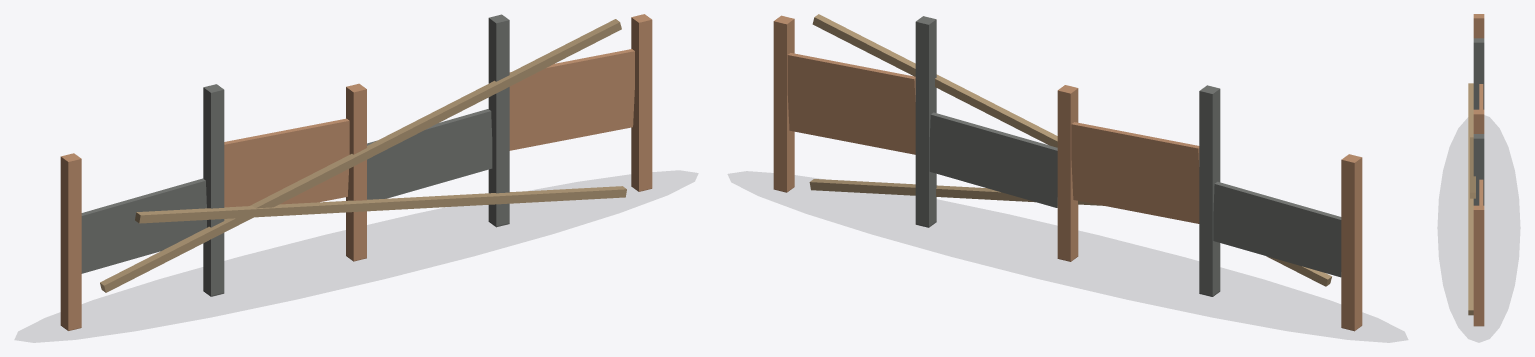
The model's file is scrap_wall_segment.glb.
3 views of the same model, side by side, from view 1: azimuth 30°, elevation 25°; view 2: azimuth 150°, elevation 25°; view 3: azimuth 270°, elevation 25° (orthographic). The views are drawn at different scales.
Parts seen in each view (by area): view 1: baked_contact_shadow, corrugated_plate_3, corrugated_plate_1, corrugated_plate_2, diagonal_brace_a, corrugated_plate_0, diagonal_brace_b, wall_post_1, wall_post_3, wall_post_0, wall_post_4, wall_post_2; view 2: baked_contact_shadow, corrugated_plate_1, corrugated_plate_3, corrugated_plate_0, corrugated_plate_2, wall_post_1, wall_post_3, wall_post_0, diagonal_brace_a, wall_post_4, wall_post_2, diagonal_brace_b; view 3: baked_contact_shadow, wall_post_4, diagonal_brace_b, wall_post_1, wall_post_3, wall_post_0, wall_post_2, diagonal_brace_a, corrugated_plate_3, corrugated_plate_1.
Part boxes in pixels (x1,y1,x2,y2): baked_contact_shadow: [15, 171, 697, 342]; corrugated_plate_3: [509, 49, 634, 150]; corrugated_plate_1: [224, 118, 349, 207]; corrugated_plate_2: [367, 109, 492, 199]; diagonal_brace_a: [100, 19, 621, 292]; corrugated_plate_0: [81, 178, 206, 273]; diagonal_brace_b: [135, 186, 626, 223]; wall_post_1: [203, 84, 224, 296]; wall_post_3: [488, 14, 509, 227]; wall_post_0: [60, 153, 81, 330]; wall_post_4: [631, 14, 652, 191]; wall_post_2: [346, 83, 366, 261]; baked_contact_shadow: [728, 171, 1407, 342]; corrugated_plate_1: [1071, 122, 1199, 223]; corrugated_plate_3: [787, 53, 915, 154]; corrugated_plate_0: [1213, 181, 1341, 277]; corrugated_plate_2: [929, 112, 1057, 207]; wall_post_1: [1199, 85, 1220, 296]; wall_post_3: [915, 16, 936, 227]; wall_post_0: [1341, 154, 1362, 331]; diagonal_brace_a: [812, 14, 1331, 286]; wall_post_4: [773, 15, 794, 192]; wall_post_2: [1057, 85, 1078, 261]; diagonal_brace_b: [809, 179, 1103, 205]; baked_contact_shadow: [1438, 116, 1519, 341]; wall_post_4: [1473, 205, 1484, 326]; diagonal_brace_b: [1468, 83, 1473, 315]; wall_post_1: [1473, 38, 1484, 109]; wall_post_3: [1473, 134, 1484, 205]; wall_post_0: [1473, 14, 1484, 38]; wall_post_2: [1473, 109, 1484, 133]; diagonal_brace_a: [1470, 137, 1475, 198]; corrugated_plate_3: [1479, 179, 1483, 205]; corrugated_plate_1: [1479, 84, 1483, 109].
Bounding box in the file's own units: 7.2 × 2.05 × 1.1.
